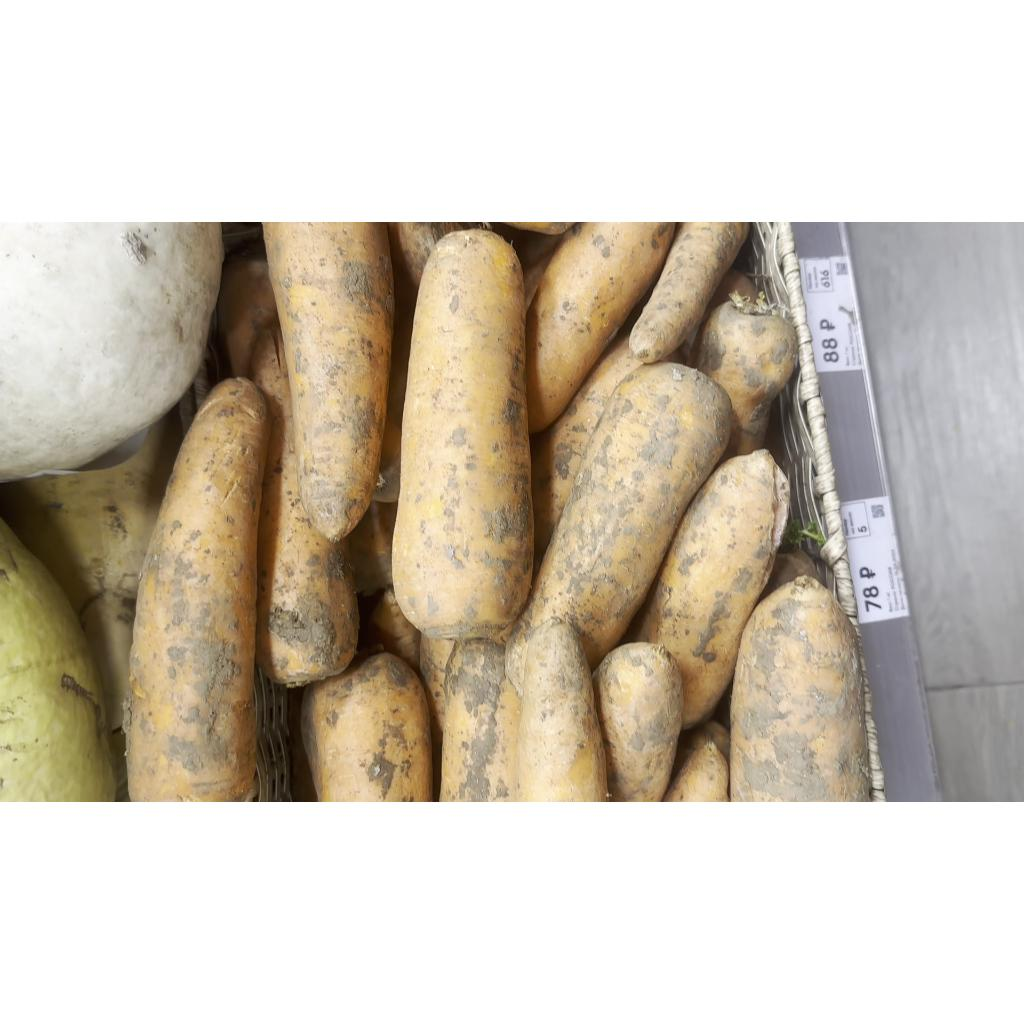carrot: (506, 362, 732, 686), (128, 378, 270, 801), (392, 230, 532, 640), (628, 450, 790, 728), (264, 222, 394, 542), (250, 326, 358, 686), (730, 576, 870, 802), (526, 222, 674, 432), (302, 652, 432, 802), (692, 300, 798, 460), (516, 618, 608, 802), (630, 222, 748, 364), (592, 642, 682, 802), (440, 638, 522, 801)
